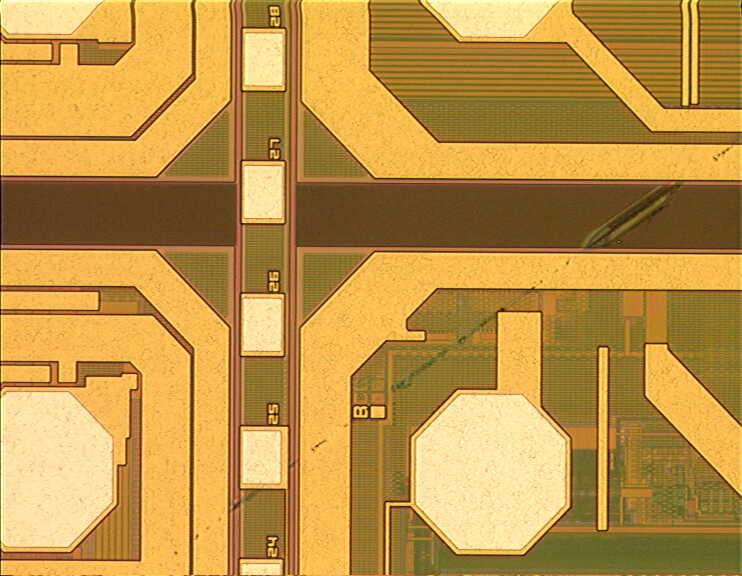SCRATCH: (120, 122, 742, 576)
